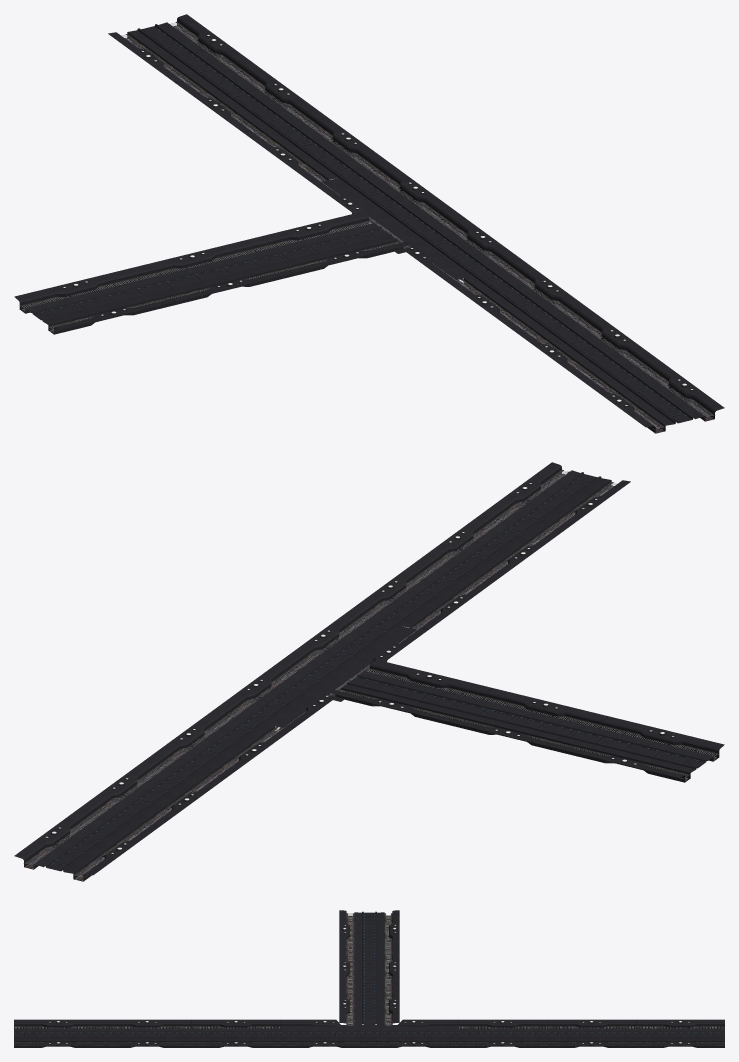
Rendered from korridor.fbx.
3 renders of one model, top to bottom at view 1: azimuth 30°, elevation 25°; view 2: azimuth 150°, elevation 25°; view 3: azimuth 270°, elevation 25°, orthographic. The views are drawn at different scales.
Parts seen in each view (by area): view 1: polySurface668; view 2: polySurface668; view 3: polySurface668.
Part boxes in pixels (box(x1,y1,x2,y2)): polySurface668: box(14, 14, 724, 433); polySurface668: box(14, 462, 724, 881); polySurface668: box(14, 910, 724, 1047).
Bounding box in the file's own units: 105 × 2.4 × 234.
